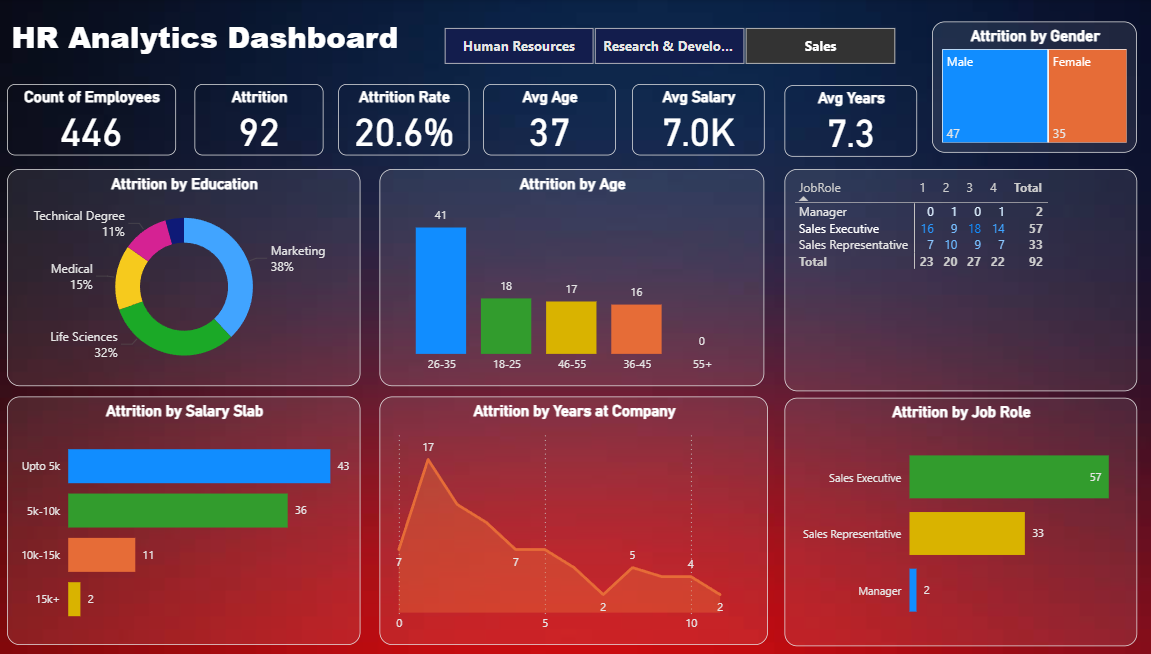

This screenshot's page, from the dashboard's own definition file:
{"tool":"powerbi","page":{"name":"Page 1","canvas":[1280,720],"ordinal":0},"visuals":[{"type":"card","title":"Count of Employees","fields":{"Values":["CountNonNull(HR_Analytics.EmpID)"]},"box":[11,93.3,185.2,78.2],"z":0},{"type":"card","title":"Avg Age","fields":{"Values":["Avg(HR_Analytics.Age)"]},"box":[533.8,93.3,145.5,78.2],"z":1000},{"type":"card","title":"Attrition Rate","fields":{"Values":["HR_Analytics.AttritionRate"]},"box":[374.6,93.3,144.1,78.2],"z":2000},{"type":"card","title":"Attrition","fields":{"Values":["Sum(HR_Analytics.AttritionCount)"]},"box":[216.8,93.3,141.3,78.2],"z":3000},{"type":"card","title":"Avg Years","fields":{"Values":["Avg(HR_Analytics.YearsAtCompany)"]},"box":[864.5,94.7,145.5,78.2],"z":4000},{"type":"card","title":"Avg Salary","fields":{"Values":["Avg(HR_Analytics.MonthlyIncome)"]},"box":[697.1,93.3,145.5,78.2],"z":5000},{"type":"donutChart","title":"Attrition by Education","fields":{"Category":["HR_Analytics.EducationField"],"Y":["Sum(HR_Analytics.AttritionCount)"]},"box":[11,186.6,388.3,238.8],"z":6000},{"type":"columnChart","title":"Attrition by Age","fields":{"Category":["HR_Analytics.AgeGroup"],"Y":["Sum(HR_Analytics.AttritionCount)"]},"box":[419.9,186.6,422.6,238.8],"z":7000},{"type":"pivotTable","fields":{"Rows":["HR_Analytics.JobRole"],"Columns":["HR_Analytics.JobSatisfaction"],"Values":["Sum(HR_Analytics.AttritionCount)"]},"box":[864.5,186.6,387,244.3],"z":8000},{"type":"barChart","title":"Attrition by Salary Slab","fields":{"Category":["HR_Analytics.SalarySlab"],"Y":["Sum(HR_Analytics.AttritionCount)"]},"box":[11,436.4,388.3,273.1],"z":9000},{"type":"barChart","title":"Attrition by Job Role","fields":{"Category":["HR_Analytics.JobRole"],"Y":["Sum(HR_Analytics.AttritionCount)"]},"box":[864.5,437.7,387,273.1],"z":10000},{"type":"areaChart","title":"Attrition by Years at Company","fields":{"Category":["HR_Analytics.YearsAtCompany"],"Y":["Sum(HR_Analytics.AttritionCount)"]},"box":[419.9,436.4,426.8,273.1],"z":11000},{"type":"treemap","title":"Attrition by Gender","fields":{"Group":["HR_Analytics.Gender"],"Values":["Sum(HR_Analytics.AttritionCount)"]},"box":[1026.4,24.7,225,144.1],"z":12000},{"type":"slicer","fields":{"Values":["HR_Analytics.Department"]},"box":[465.2,24.7,544.8,53.5],"z":13000},{"type":"textbox","box":[11,13.7,463.8,64.5],"z":14000}]}

Visuals, with their boxes in screenshot pixels (x1, y1, x2, y2), scaled from the page's 1280x720 canvas onto the 1151x654 screenshot:
"Count of Employees" card: 10 85 176 156
"Avg Age" card: 480 85 611 156
"Attrition Rate" card: 337 85 466 156
"Attrition" card: 195 85 322 156
"Avg Years" card: 777 86 908 157
"Avg Salary" card: 627 85 758 156
"Attrition by Education" donutChart: 10 169 359 386
"Attrition by Age" columnChart: 378 169 758 386
pivotTable - HR_Analytics.JobRole x HR_Analytics.JobSatisfaction: 777 169 1125 391
"Attrition by Salary Slab" barChart: 10 396 359 644
"Attrition by Job Role" barChart: 777 398 1125 646
"Attrition by Years at Company" areaChart: 378 396 761 644
"Attrition by Gender" treemap: 923 22 1125 153
slicer - HR_Analytics.Department: 418 22 908 71
textbox: 10 12 427 71
